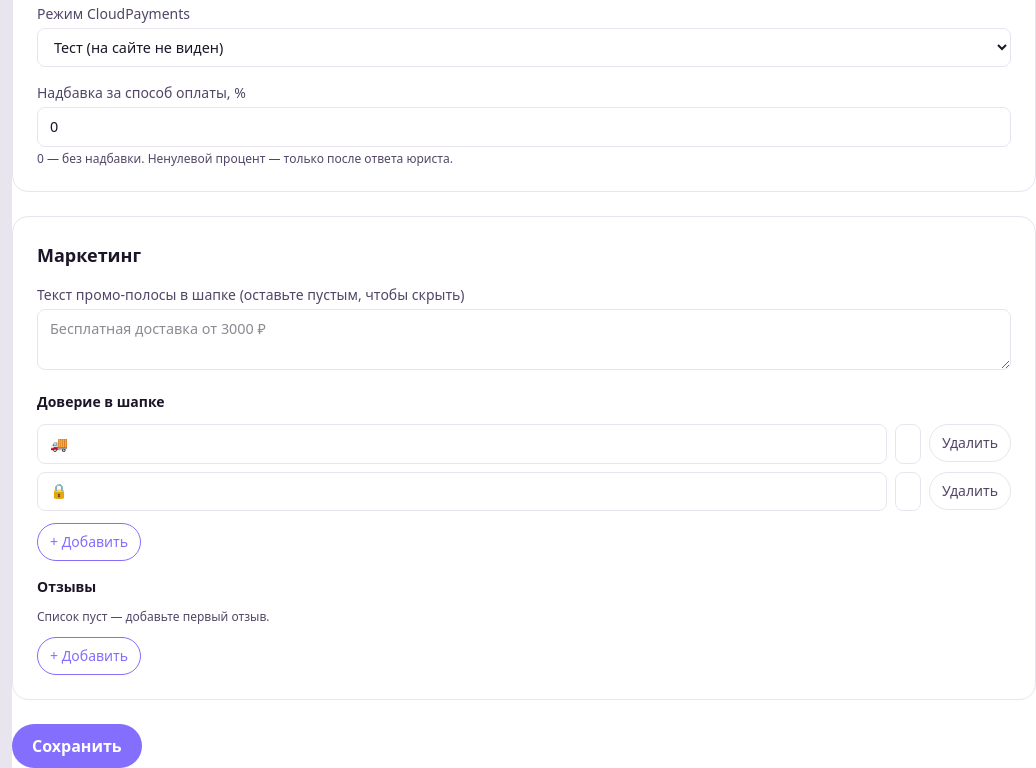
SettingsForm › removes a trust-strip row when "Удалить" is clicked
(page scrolled)
Expected: the list item with test id "trust-strip-row-0" is shown, [37, 424, 1011, 464]
Expected: the list item with test id "trust-strip-row-1" is shown, [37, 472, 1011, 511]
Click the 1st button "Удалить" at (970, 443), box [929, 424, 1011, 462]
(page scrolled)
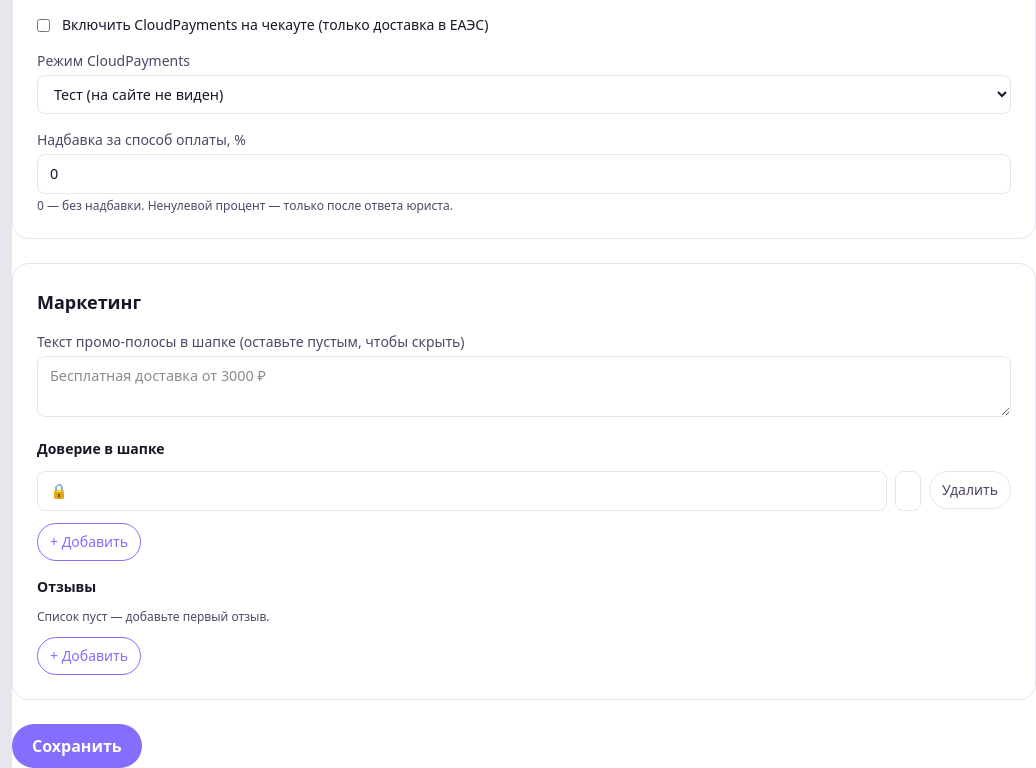
Expected: the list item with test id "trust-strip-row-1" is gone
Expected: the field named "Подпись 1" holds "Безопасная оплата", [895, 471, 921, 510]
